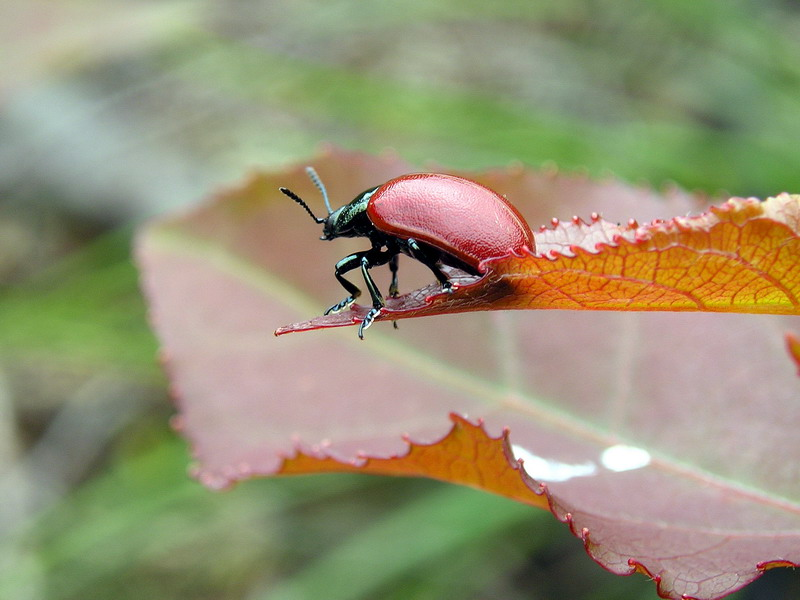Chrysomela_populi: (274, 144, 544, 344)
